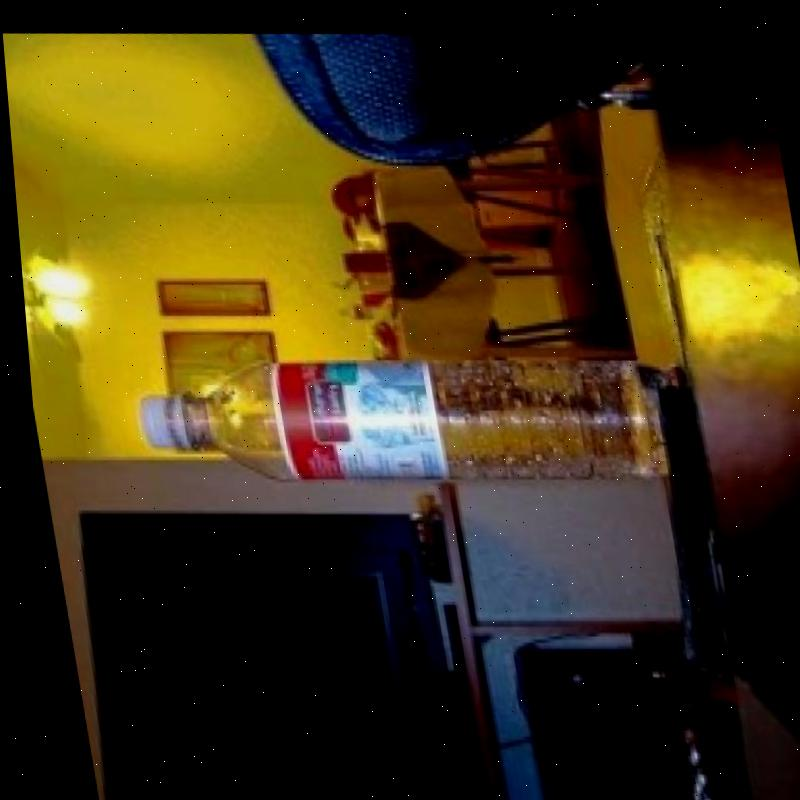botella: (122, 307, 686, 522)
